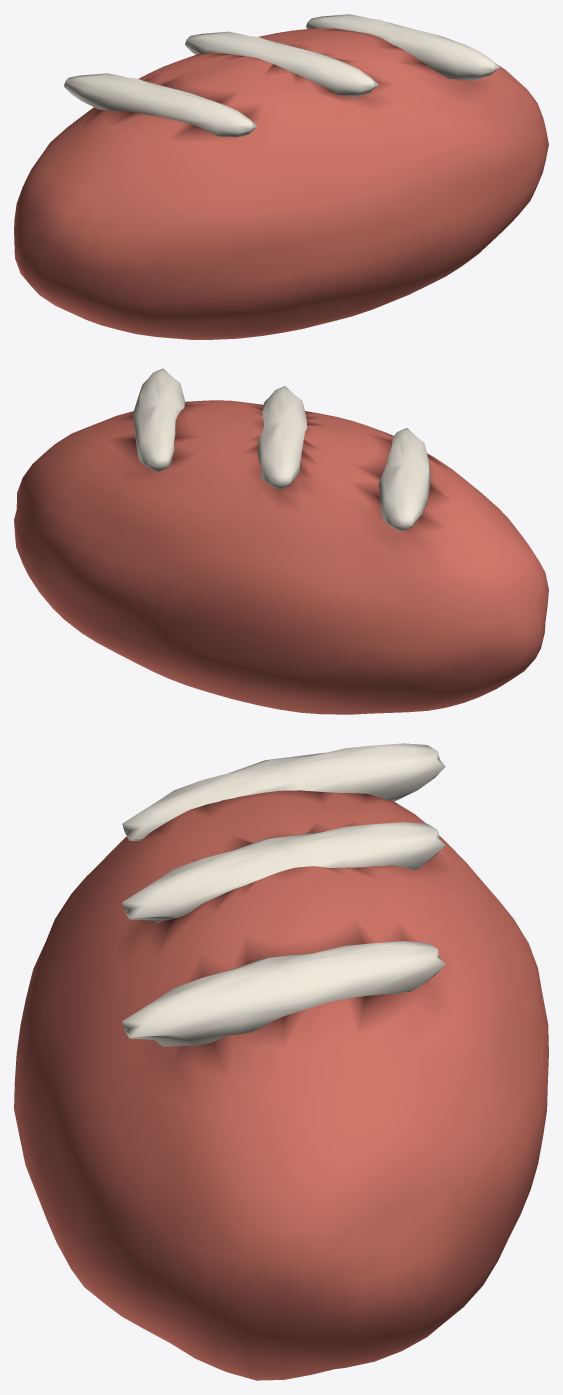
The model's file is food_bread.glb.
3 views of the same model, one above another, from view 1: azimuth 30°, elevation 25°; view 2: azimuth 150°, elevation 25°; view 3: azimuth 270°, elevation 25° (orthographic). The views are drawn at different scales.
Parts seen in each view (by area): view 1: PART; view 2: PART; view 3: PART.
Part boxes in pixels (left/top/right/bottom): PART: left=14, top=14, right=548, bottom=339; PART: left=14, top=368, right=548, bottom=714; PART: left=14, top=743, right=548, bottom=1380.
Size of the model in its own units: 0.1773 by 0.0873 by 0.0961.
